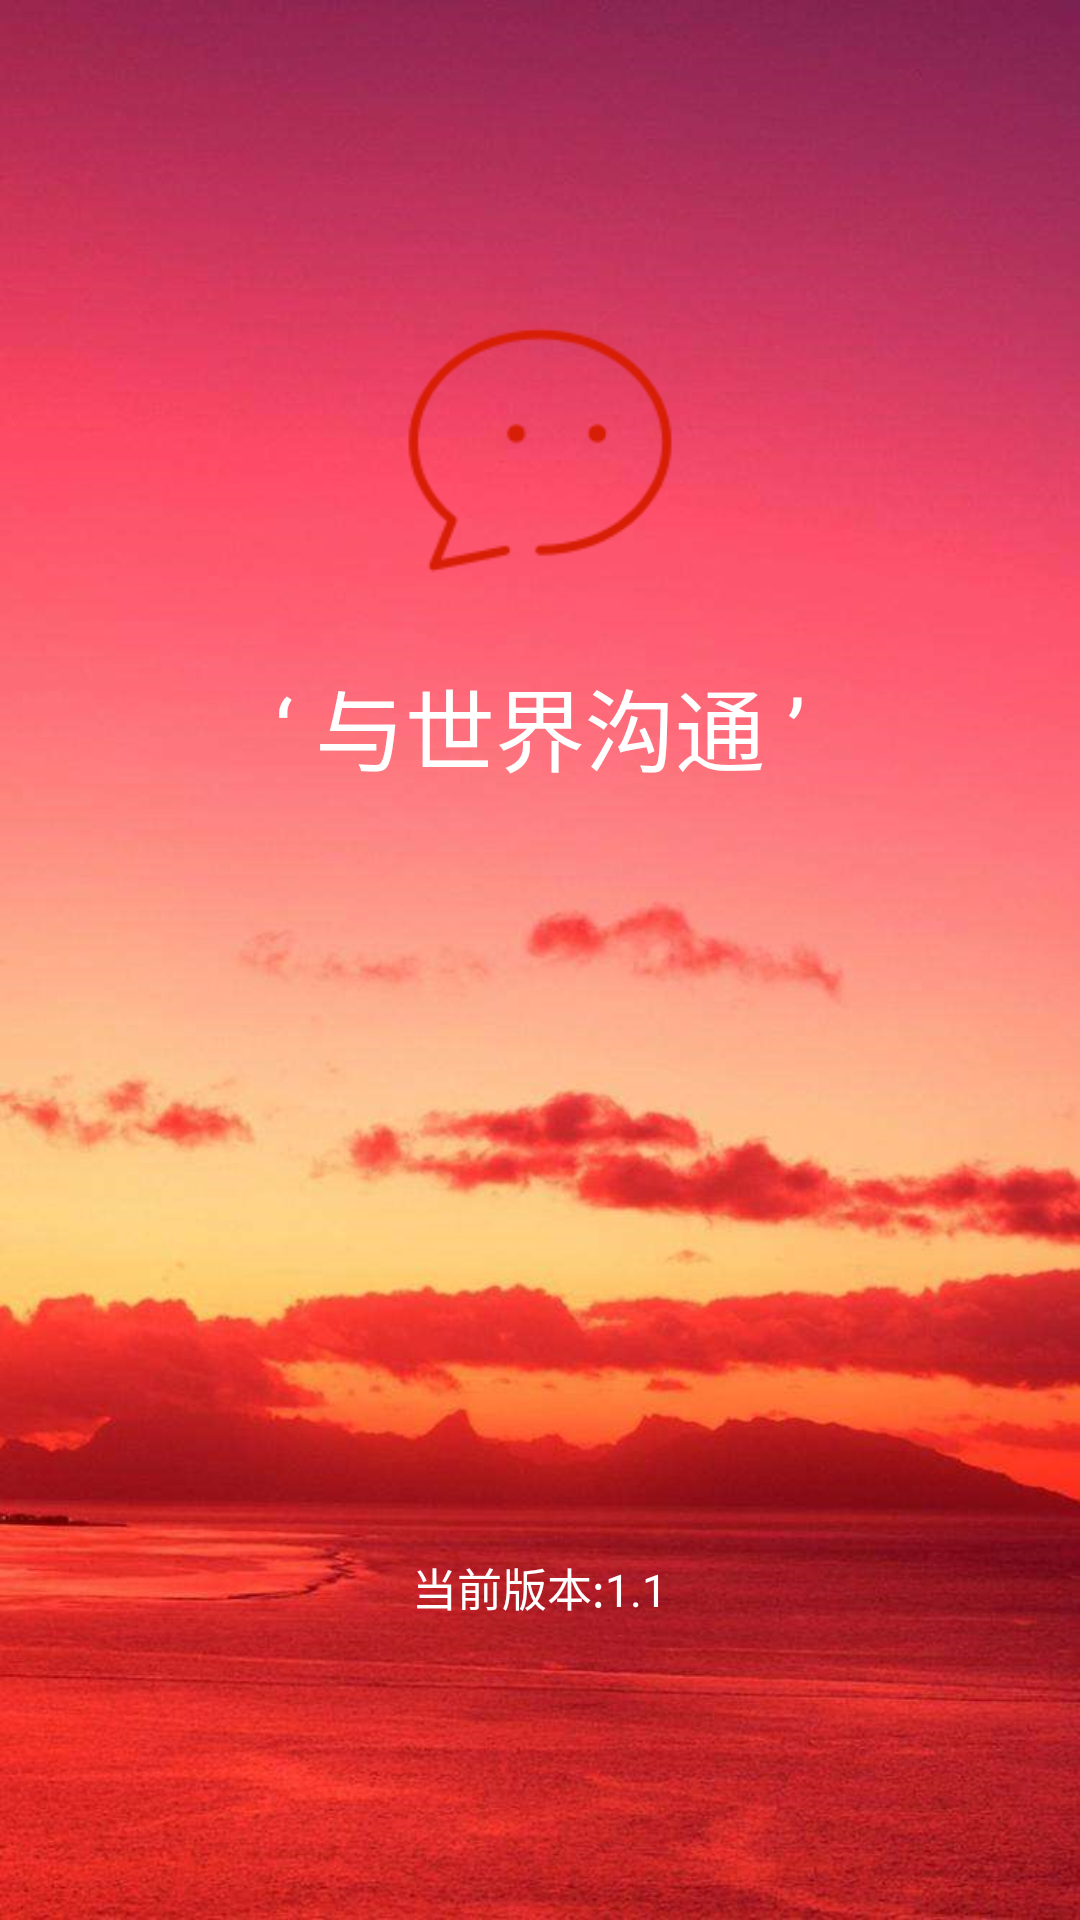

Point at icon controls on the screen. Image size 1080×1920, points as [x,y].
chat: [540,450]
